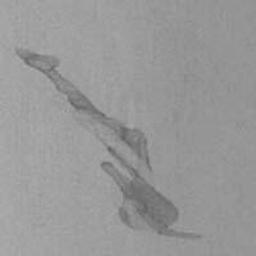Water spot: (13, 44, 205, 241)
